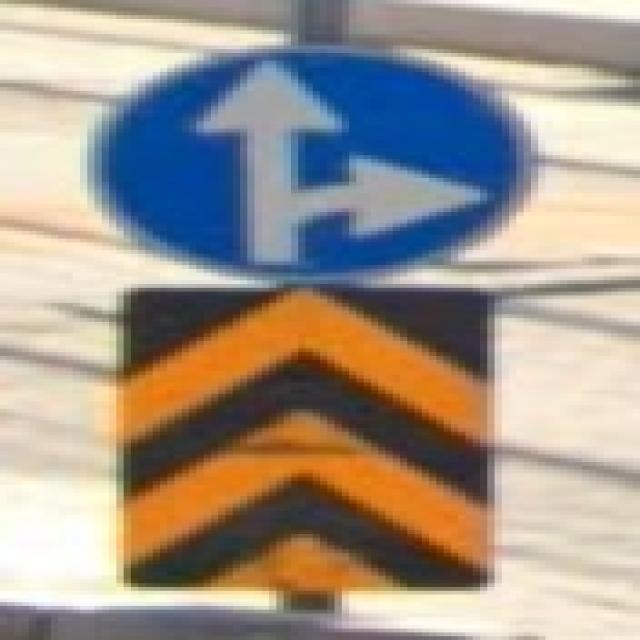Straight or Right: (99, 52, 536, 272)
